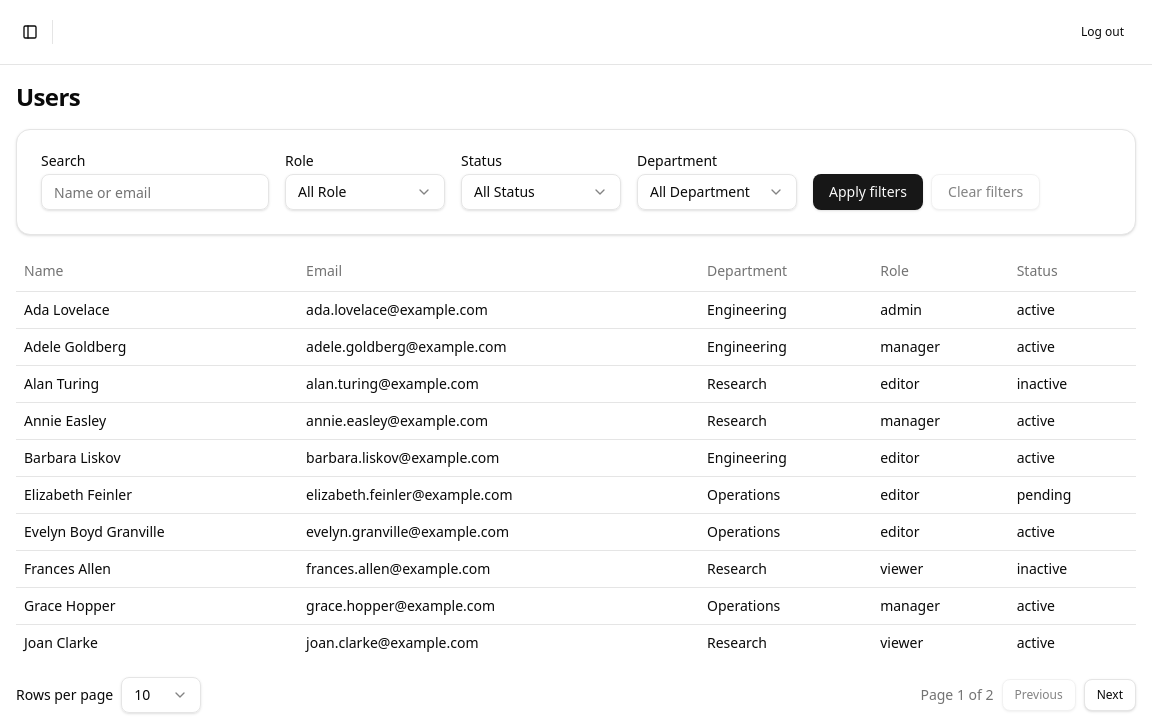
Test: /users › pages through the list by clicking Next and updates the URL
The image size is (1152, 720).
Check: the row "Ada Lovelace" is shown, box x1=16 y1=291 x2=1136 y2=328
What coordinates should you click on to do the following:
click the button "Next"
I would click on:
 (1110, 694)
Its box is x1=1084 y1=678 x2=1136 y2=710.
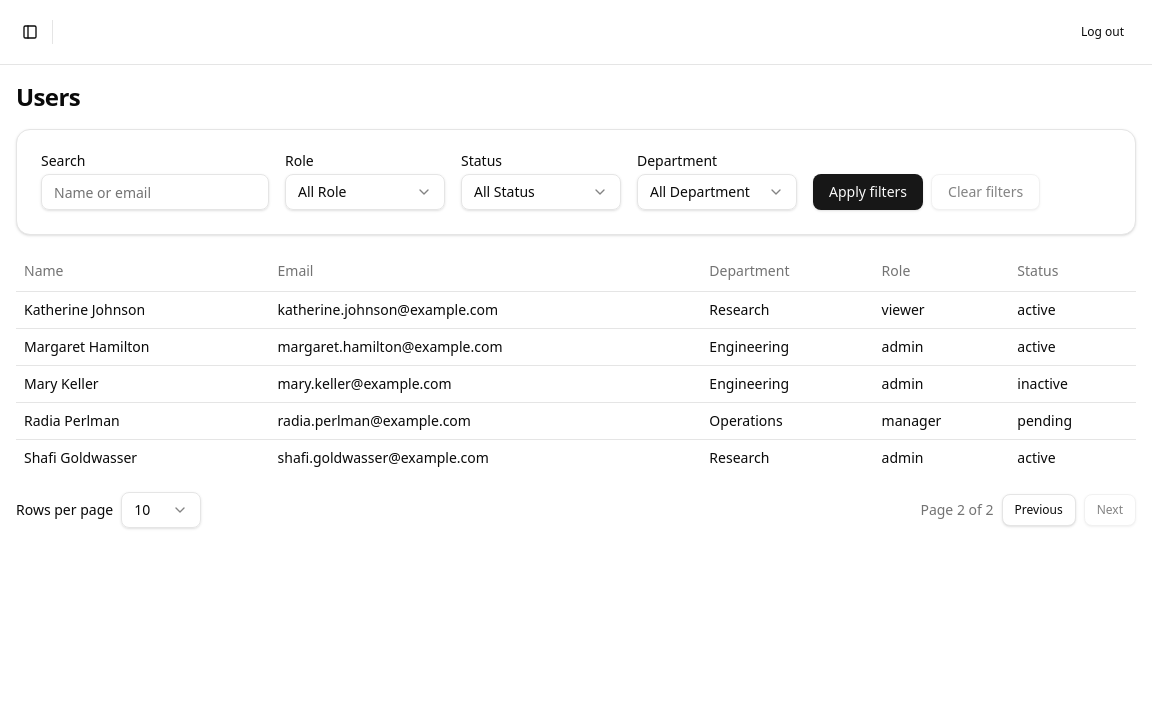
Check: the row "Katherine Johnson" is shown, box x1=16 y1=291 x2=1136 y2=328
Check: the link "Ada Lovelace" is gone
